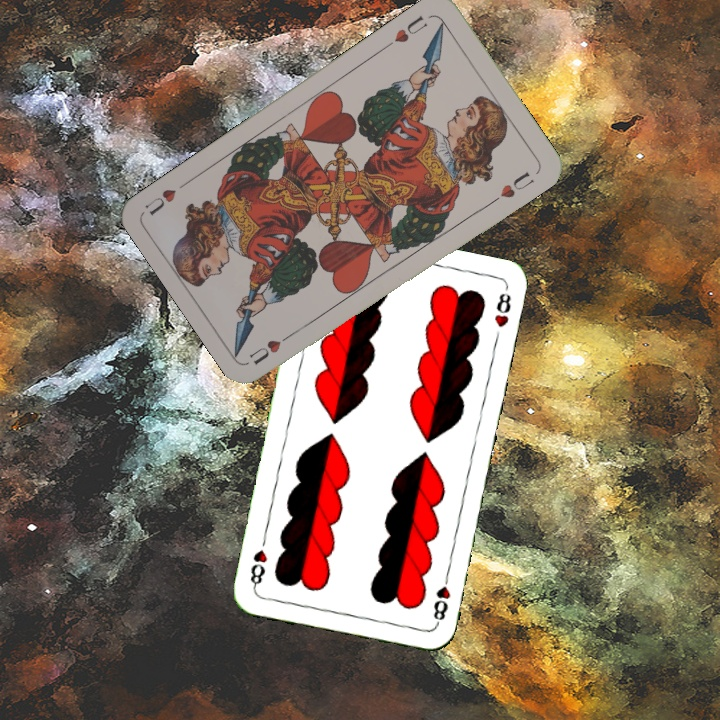H8: (429, 568, 453, 627)
HU: (244, 327, 298, 367), (390, 11, 431, 46)
